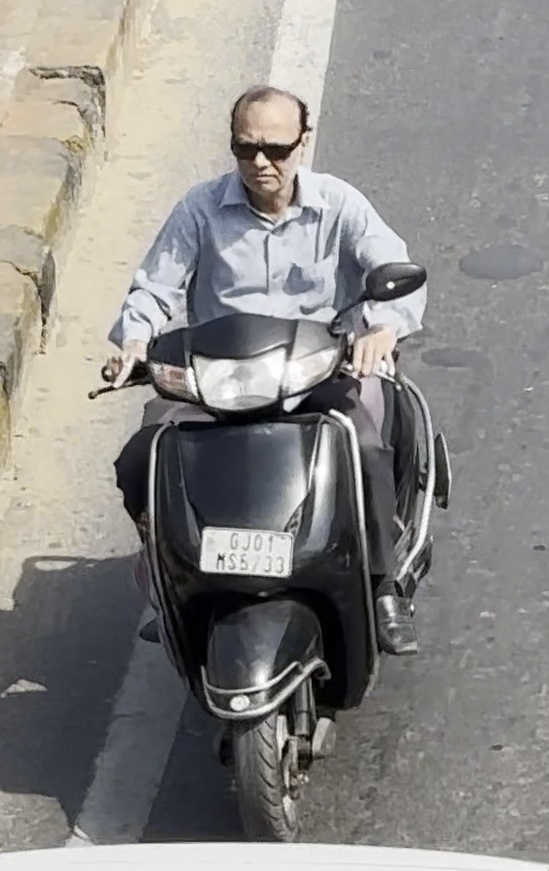BikeWithRider: (81, 72, 461, 850)
NoHelmet: (219, 75, 322, 206)
